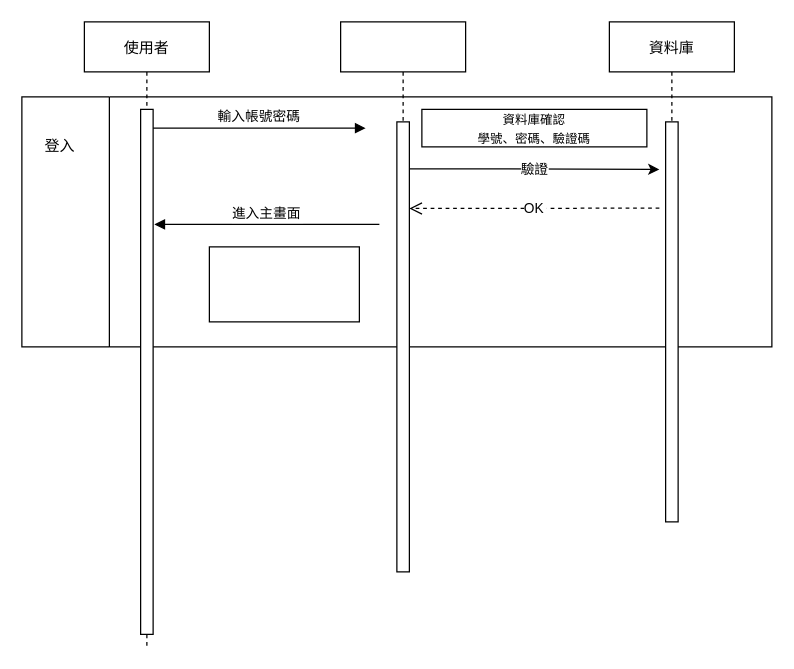
The diagram is 794 pixels wide and 669 high, and some of its shapes have lost their labels. The shapes that lost their labels are listed below. From the top down, each one's box as (x1, y1, x2, y2) in pixels, then its label:
(208, 246, 359, 322): 更新主畫面資訊、廣告、通知、聊天室
(339, 21, 466, 572): APP
